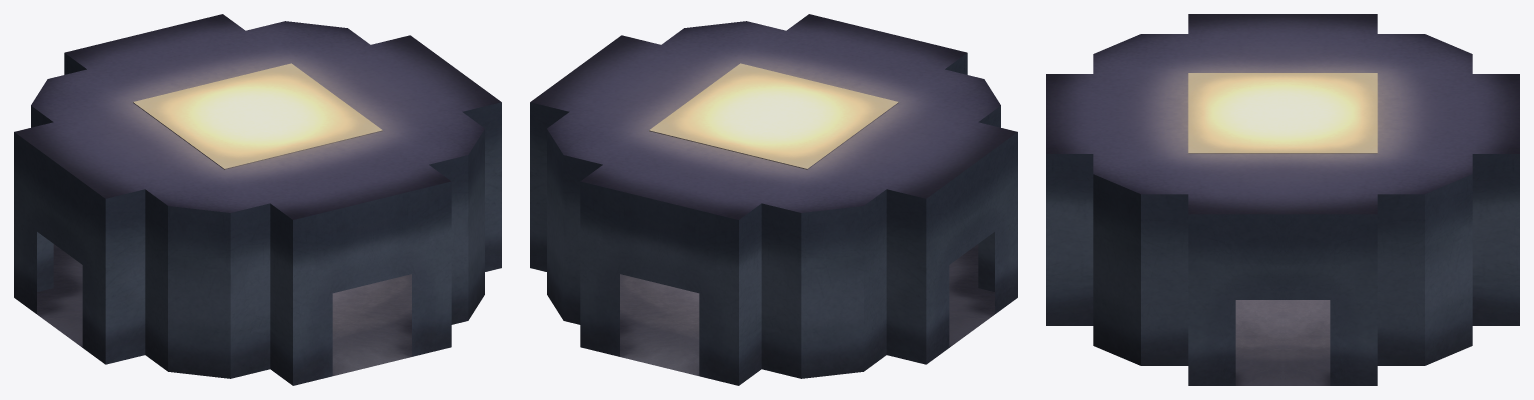
File: 4way0.glb
3 renders of one model, left to right at view 1: azimuth 30°, elevation 25°; view 2: azimuth 150°, elevation 25°; view 3: azimuth 270°, elevation 25°, orthographic. The views are drawn at different scales.
Parts seen in each view (by area): view 1: 4way0; view 2: 4way0; view 3: 4way0.
Boxes of the visible parts, bbox=[...] form: 4way0: bbox=[14, 14, 501, 385]; 4way0: bbox=[530, 14, 1017, 385]; 4way0: bbox=[1046, 14, 1519, 385].
Size of the model in its own units: 50 by 20.11 by 50.
Materials: 1 (1 with a texture image).
